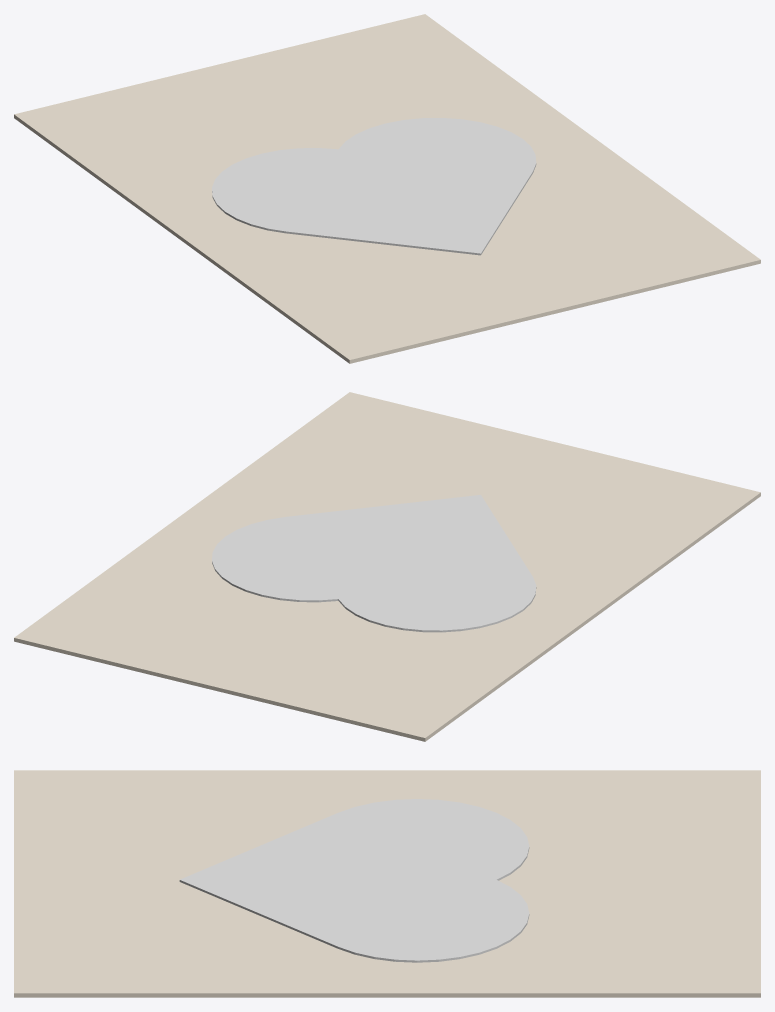
Rendered from Recipe_Heart.fbx.
The picture shows the model from 3 angles, top to bottom: view 1: azimuth 30°, elevation 25°; view 2: azimuth 150°, elevation 25°; view 3: azimuth 270°, elevation 25°; orthographic projection. The views are drawn at different scales.
Parts seen in each view (by area): view 1: Recipe_Paper, Recipe_Heart; view 2: Recipe_Paper, Recipe_Heart; view 3: Recipe_Paper, Recipe_Heart.
Boxes of the visible parts, <box> form: Recipe_Paper: <box>14,14,760,363</box>; Recipe_Heart: <box>212,118,536,255</box>; Recipe_Paper: <box>14,392,760,741</box>; Recipe_Heart: <box>212,495,536,632</box>; Recipe_Paper: <box>14,770,760,997</box>; Recipe_Heart: <box>179,799,529,962</box>.
Size of the model in its own units: 0.5657 by 0.8 by 0.0075.
